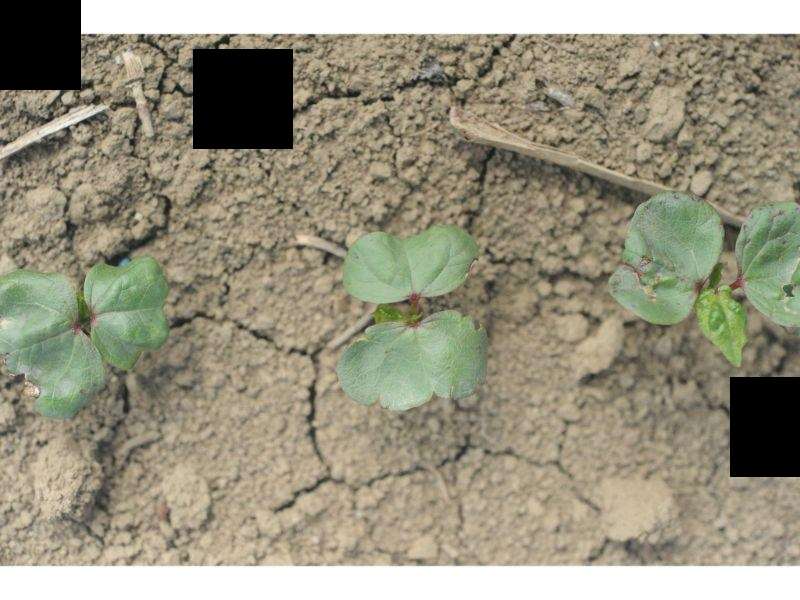cotton: (608, 190, 800, 367), (336, 225, 488, 410), (3, 256, 168, 418)
